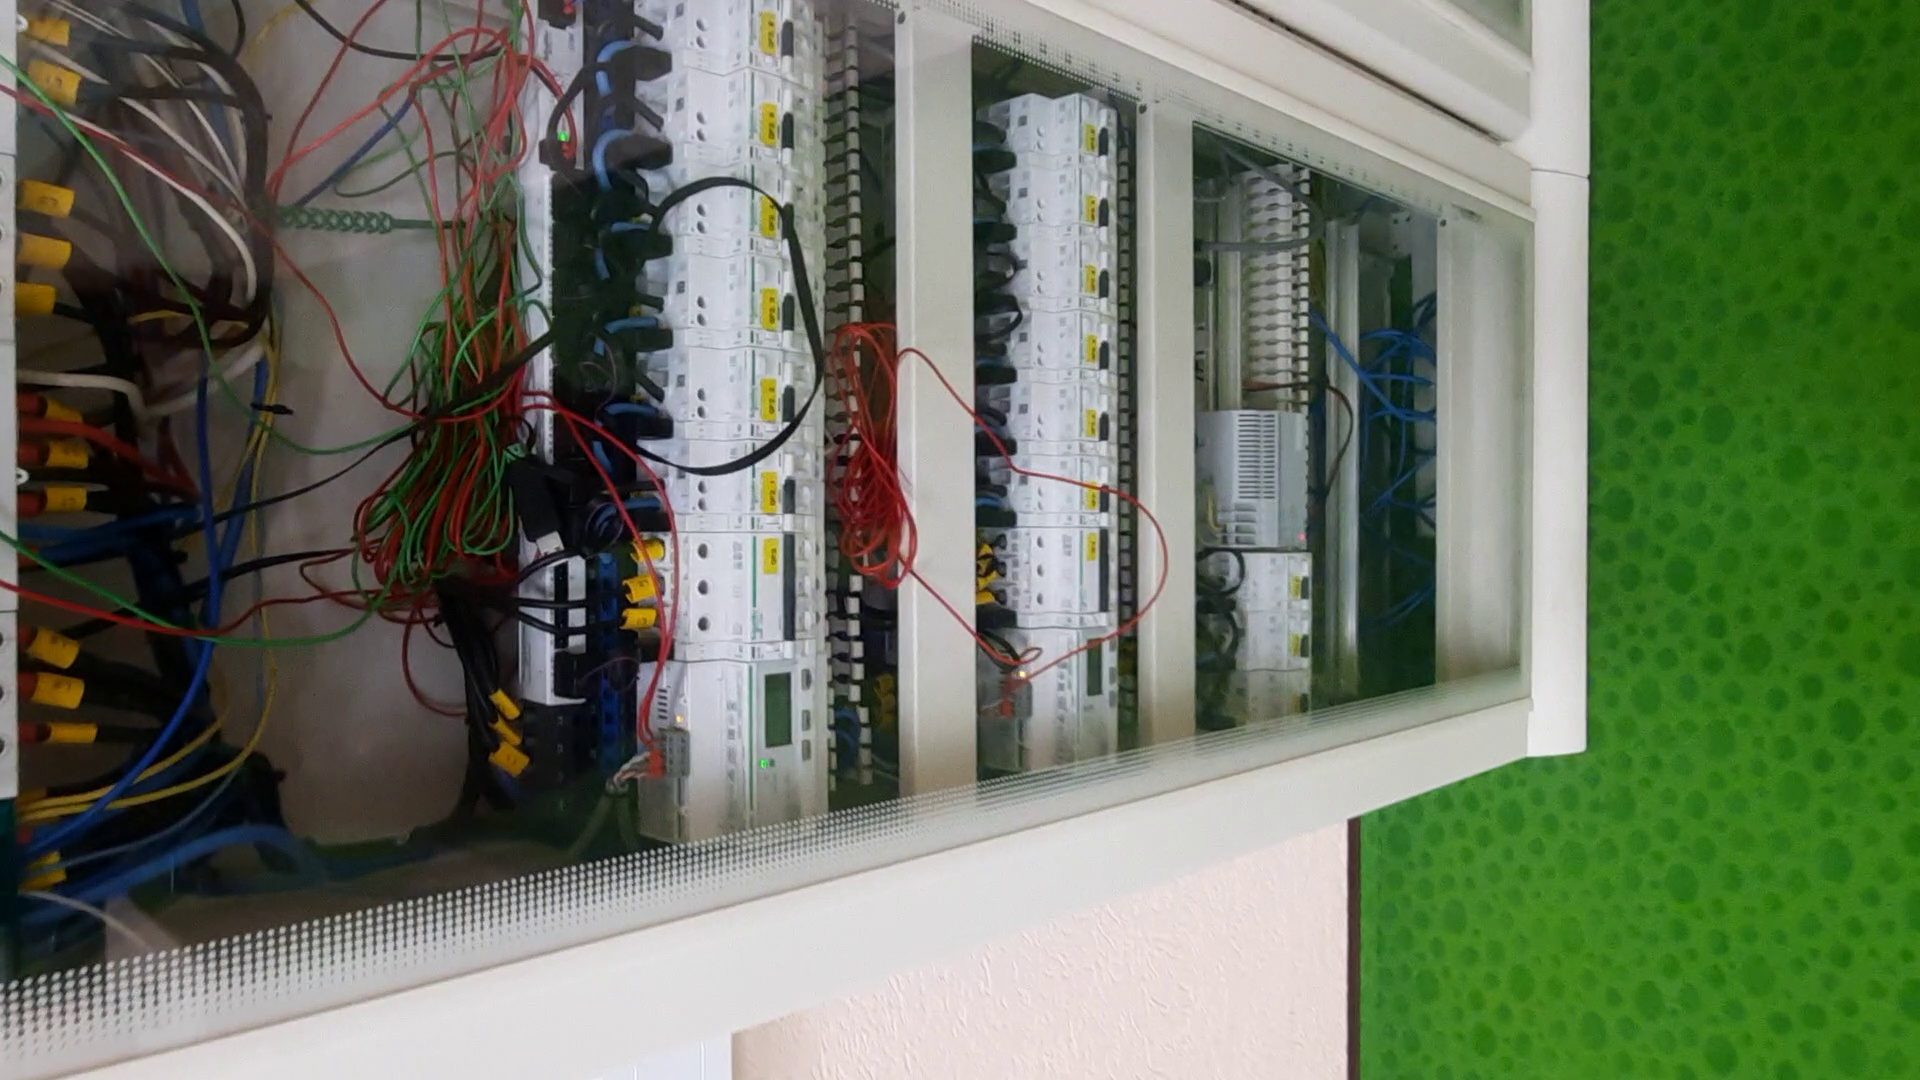stand1: (4, 3, 1588, 1055)
